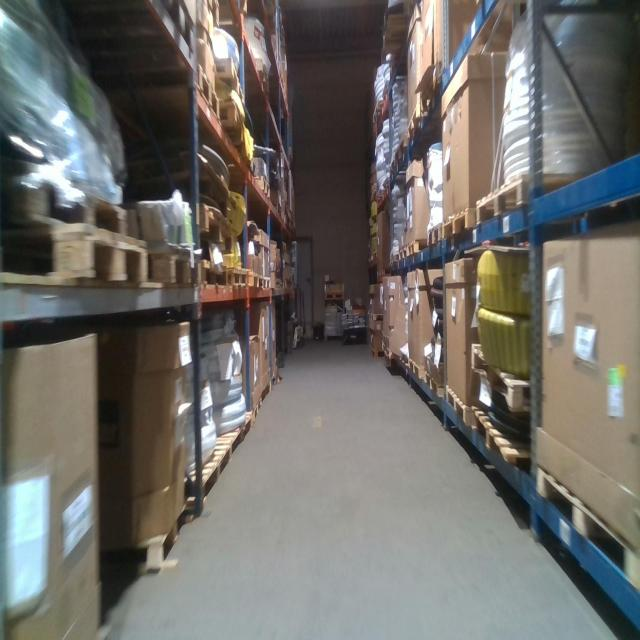pallet: (535, 463, 639, 591), (28, 223, 149, 284), (103, 501, 187, 575), (476, 171, 587, 224), (23, 180, 128, 233), (197, 418, 245, 497), (472, 406, 530, 471), (470, 342, 528, 401), (188, 198, 235, 247), (218, 100, 251, 163), (195, 60, 223, 126), (147, 245, 191, 286), (214, 55, 246, 100), (190, 252, 228, 286), (409, 96, 437, 140), (446, 384, 474, 426), (441, 207, 476, 240), (245, 397, 263, 433), (424, 370, 445, 400), (254, 57, 269, 94), (252, 175, 271, 200), (229, 266, 249, 286), (397, 137, 410, 166), (426, 223, 441, 246), (407, 240, 426, 258), (389, 149, 401, 176), (409, 358, 425, 378), (247, 270, 261, 291), (261, 379, 272, 405), (383, 344, 400, 360), (398, 348, 410, 366), (369, 345, 384, 359), (368, 312, 384, 323), (324, 291, 345, 298), (398, 246, 407, 262), (261, 274, 269, 290)
